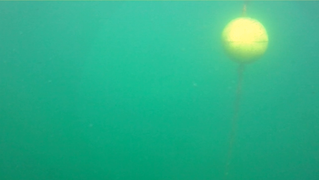buoy: (219, 16, 269, 64)
